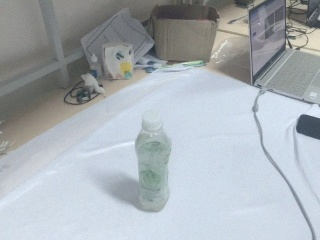bottle: (134, 109, 174, 212)
box: (150, 2, 219, 66)
phone: (296, 113, 320, 143)
